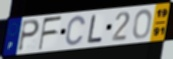2: (111, 10, 131, 42)
C: (64, 15, 87, 47)
F: (38, 15, 64, 52)
L: (87, 14, 104, 45)
O: (132, 8, 153, 40)
P: (17, 19, 41, 52)
